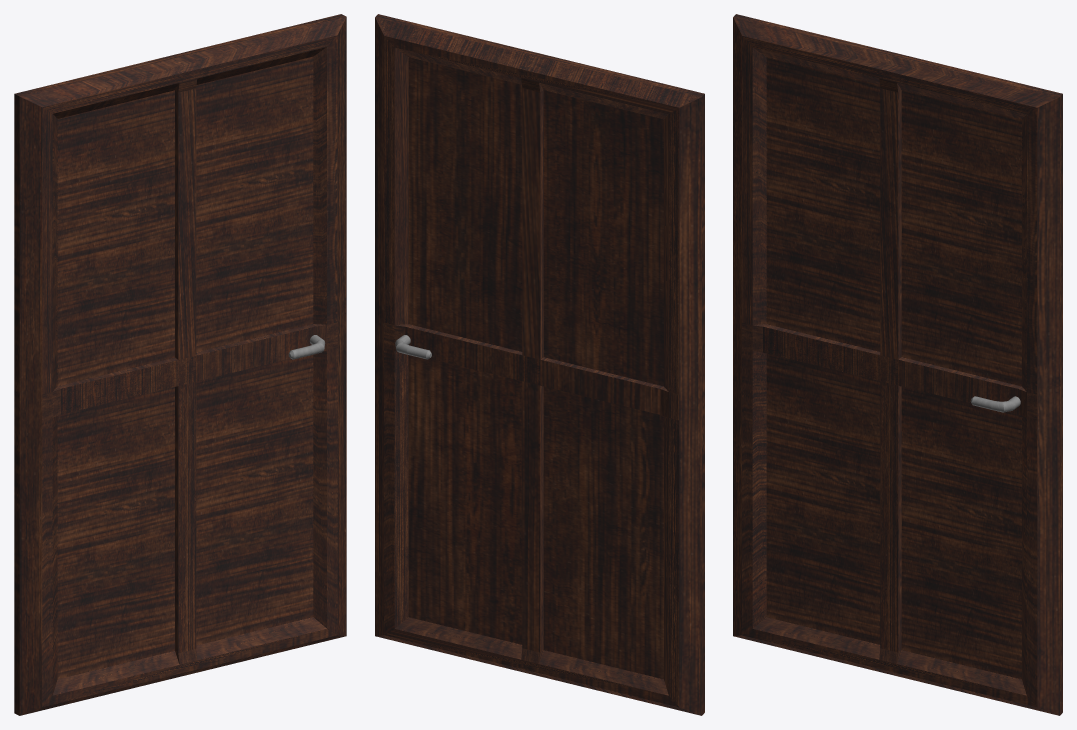
The model's file is mainDoor.fbx.
3 renders of one model, left to right at view 1: azimuth 30°, elevation 25°; view 2: azimuth 150°, elevation 25°; view 3: azimuth 330°, elevation 25°, orthographic.
Parts seen in each view (by area): view 1: Door; view 2: Door; view 3: Door, Cylinder.
Boxes of the visible parts, x1=… form: Door: x1=14, y1=14, x2=346, y2=715; Door: x1=375, y1=14, x2=704, y2=715; Door: x1=733, y1=14, x2=1062, y2=715; Cylinder: x1=970, y1=396, x2=1020, y2=412.
Size of the model in its own units: 0.7713 by 1.39 by 0.1625.
